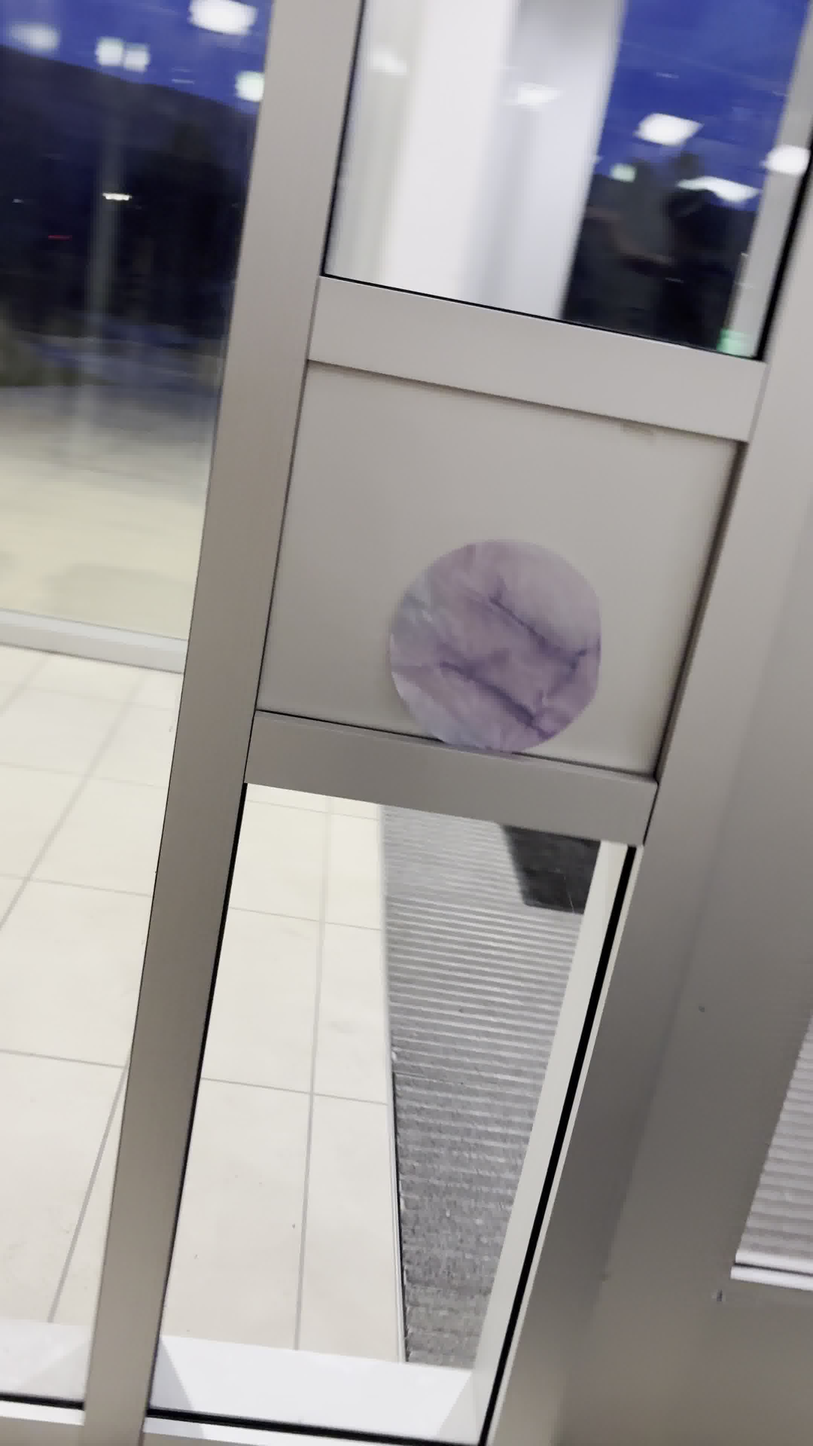Target: (385, 536, 607, 753)
